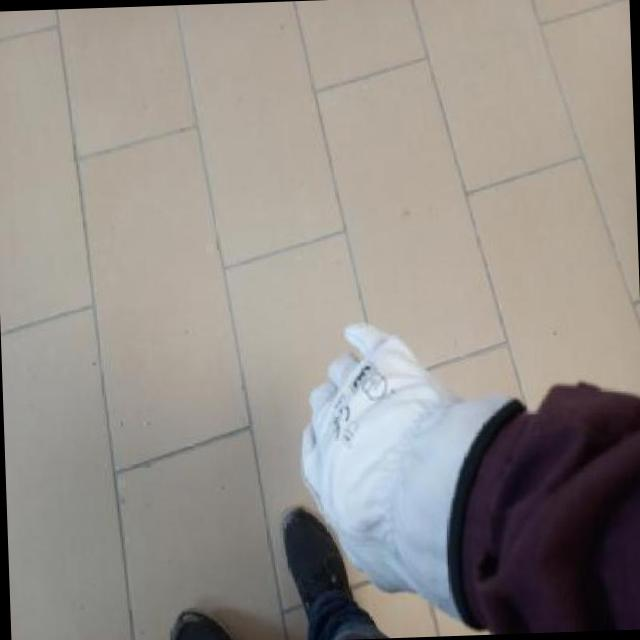boots: (279, 506, 360, 638), (163, 590, 230, 640)
gloves: (292, 315, 518, 616)
